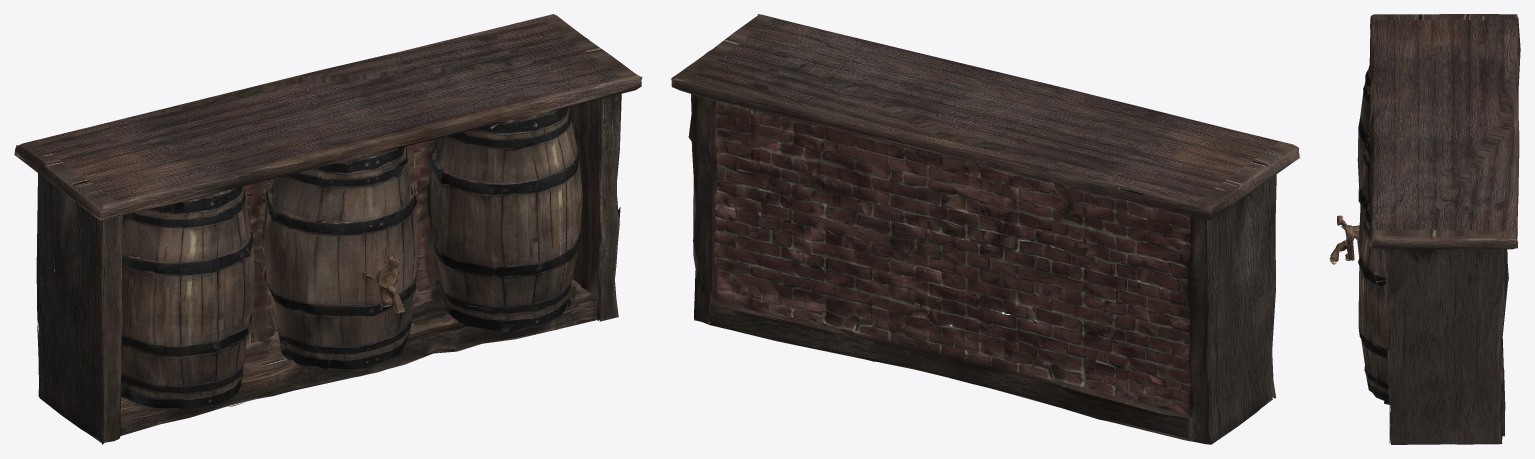
File: tavern-bar-barrels-interior-lod.glb
3 views of the same model, side by side, from view 1: azimuth 30°, elevation 25°; view 2: azimuth 150°, elevation 25°; view 3: azimuth 270°, elevation 25° (orthographic). The views are drawn at different scales.
Visible parts, largest first — view 1: Mesh_0; view 2: Mesh_0; view 3: Mesh_0.
Part boxes in pixels (left/top/right/bottom): Mesh_0: left=14, top=14, right=642, bottom=444; Mesh_0: left=671, top=14, right=1300, bottom=444; Mesh_0: left=1329, top=14, right=1520, bottom=444.
Size of the model in its own units: 1.9 by 0.841 by 0.6812.
Materials: 1 (1 with a texture image).
